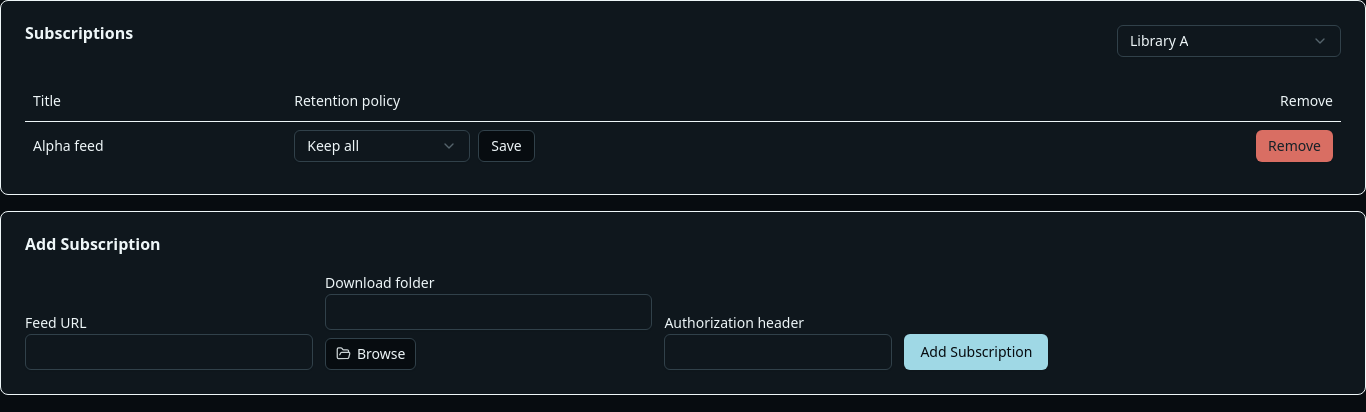
Scenario: SubscriptionsPage › does not refresh or commit an add result after switching libraries
Expected: the text "Alpha feed" is shown, [25, 121, 286, 170]
Type "https://new.test/feed" into the field labelled "Feed URL" at (169, 352), box [25, 334, 313, 370]
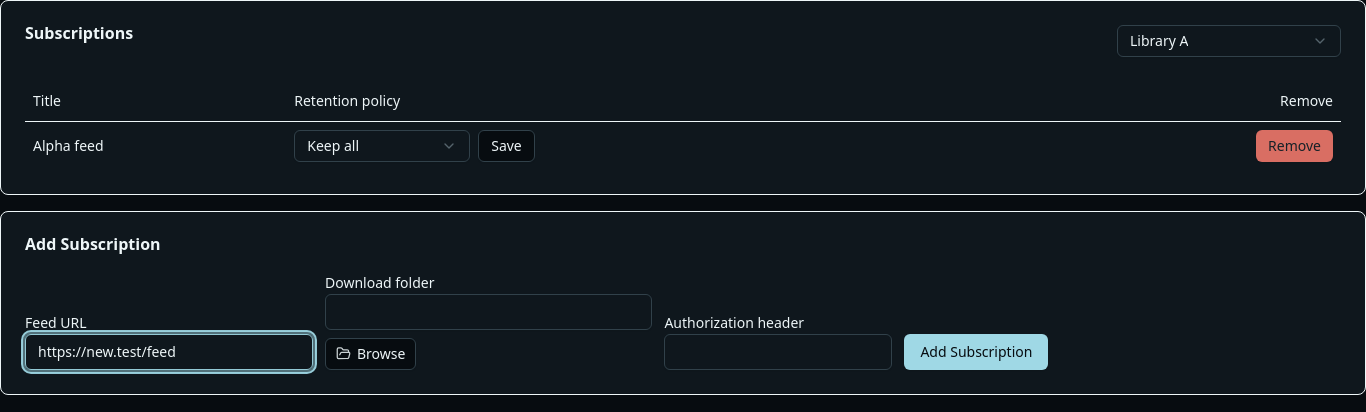
Click the button "Add Subscription" at (976, 352), box [904, 334, 1048, 370]
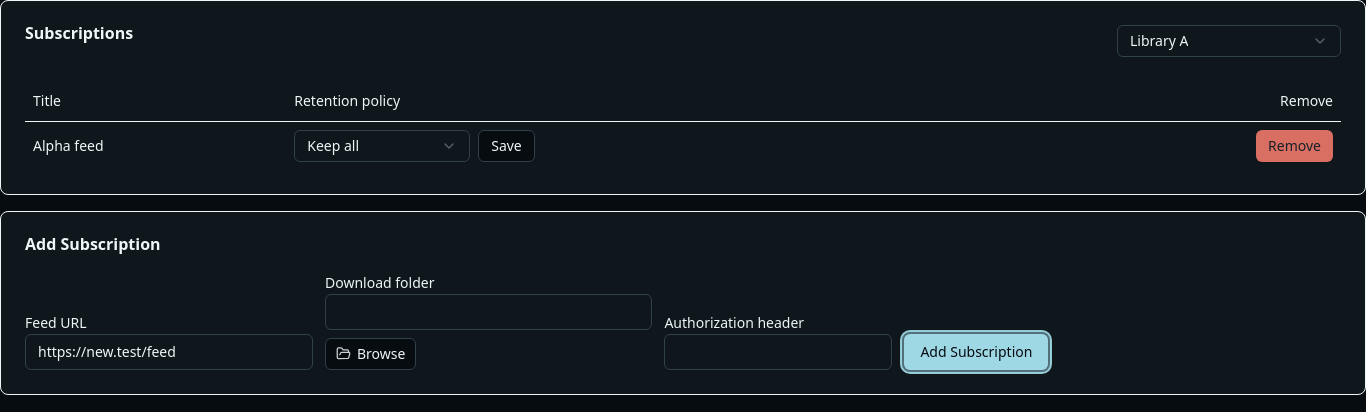
Click the dropdown labelled "Library" at (1229, 41), box [1117, 25, 1341, 57]
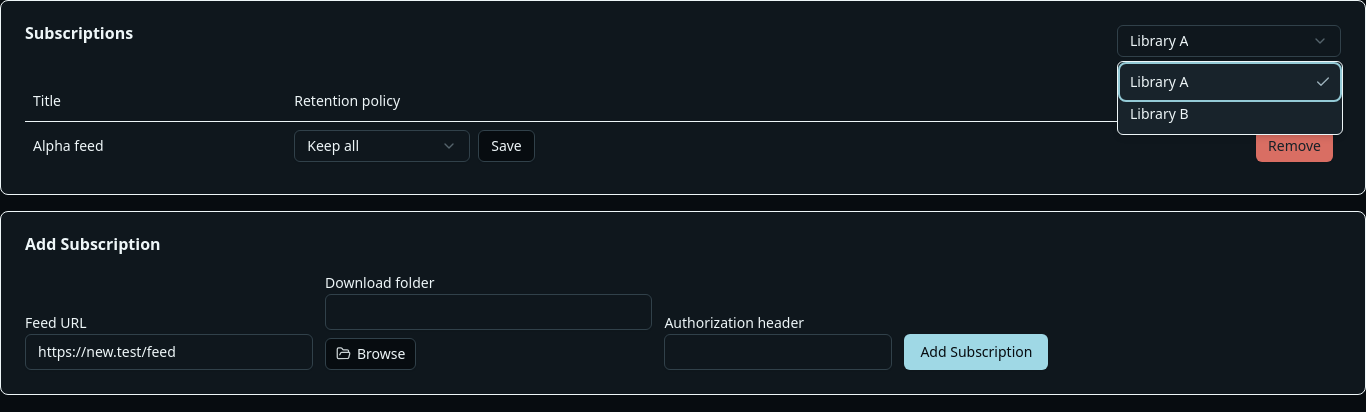
Click the option "Library B" at (1159, 114), box [1130, 104, 1189, 123]
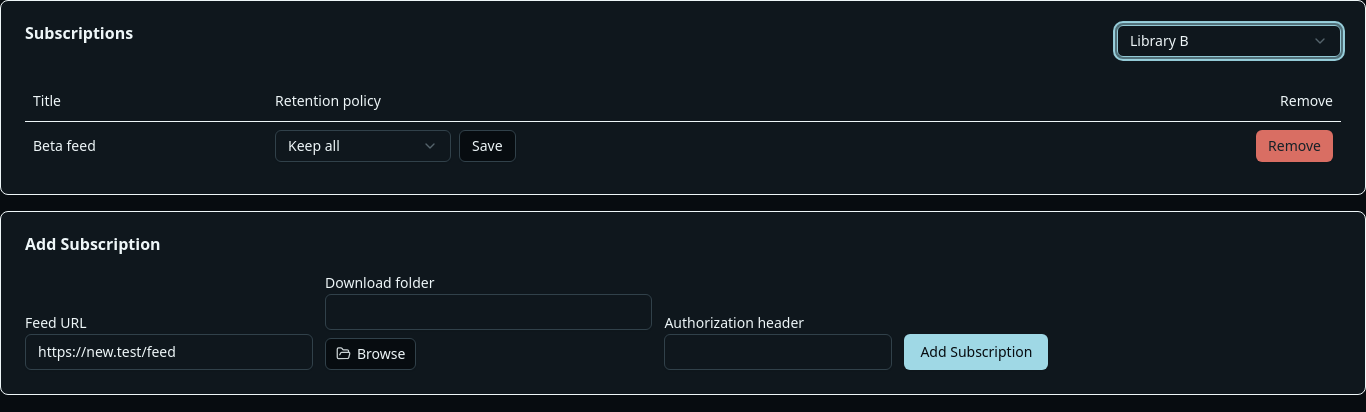
Expected: the text "Beta feed" is shown, [25, 121, 267, 170]
